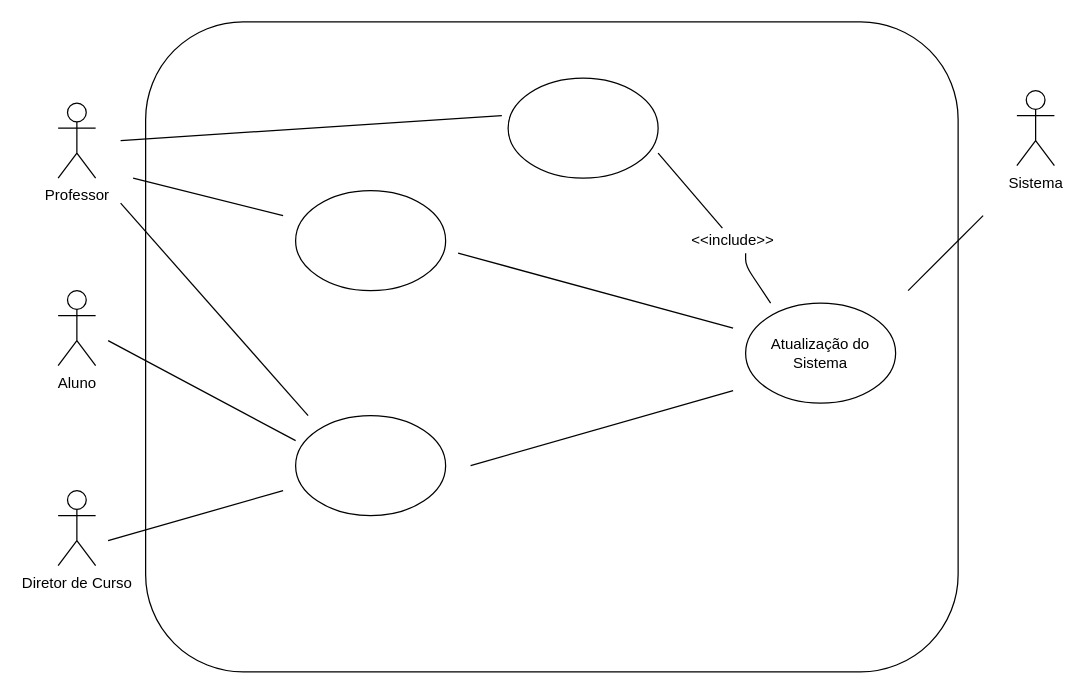
This 1084x694 diagram has some shape labels left out. Each missing label, with the centre of its shape:
"Enviar Email" belongs at [370,465].
"Justificação de Faltas" belongs at [582,127].
"Passar Cartão" belongs at [370,240].
